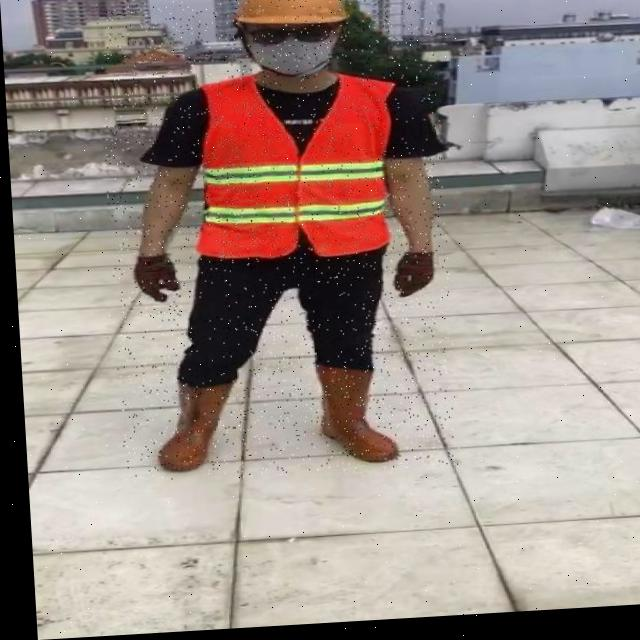Gloves: (130, 254, 177, 305), (389, 255, 432, 301)
Helmet: (231, 0, 353, 82)
Safety-Boot: (310, 361, 393, 469), (149, 375, 235, 475)
Safety-Vest: (186, 70, 402, 268)
